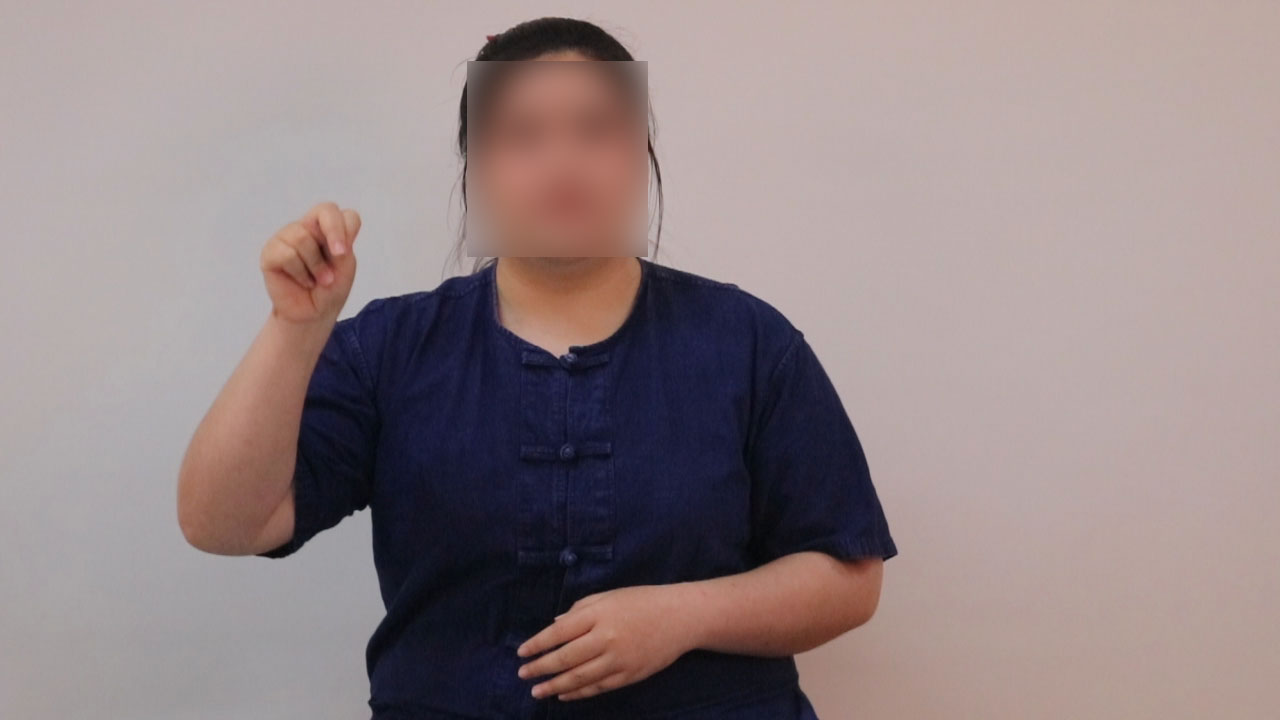nor: (245, 182, 375, 329)
